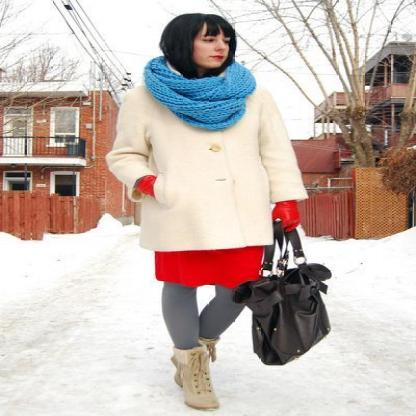bag: (244, 224, 331, 364)
jacket: (105, 80, 308, 258)
shoe: (170, 336, 219, 411)
skirt: (155, 245, 270, 288)
